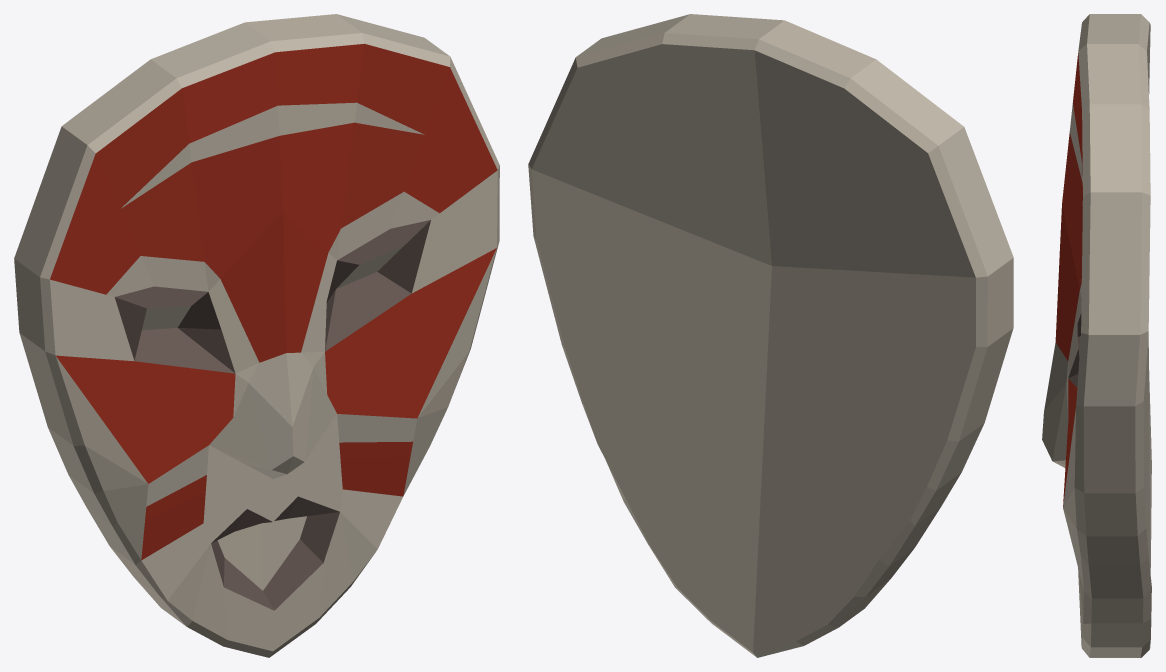
File: moonMask.glb
3 views of the same model, side by side, from view 1: azimuth 30°, elevation 25°; view 2: azimuth 150°, elevation 25°; view 3: azimuth 270°, elevation 25° (orthographic).
Visible parts, largest first — view 1: Plane; view 2: Plane; view 3: Plane.
Boxes of the visible parts, x1,y1,x2,y2 form: Plane: [14, 14, 499, 657]; Plane: [528, 14, 1013, 657]; Plane: [1042, 14, 1151, 657].
Size of the model in its own units: 0.4425 by 0.568 by 0.0921.
